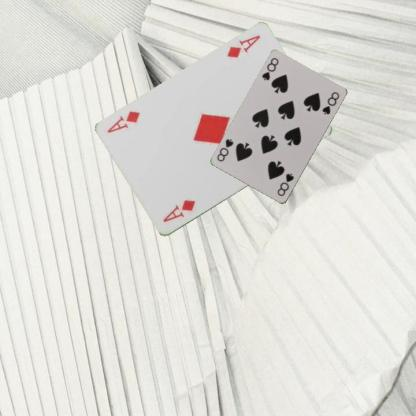8s: (274, 171, 296, 198), (260, 56, 280, 82)
Ad: (160, 197, 197, 224), (224, 33, 262, 59)
